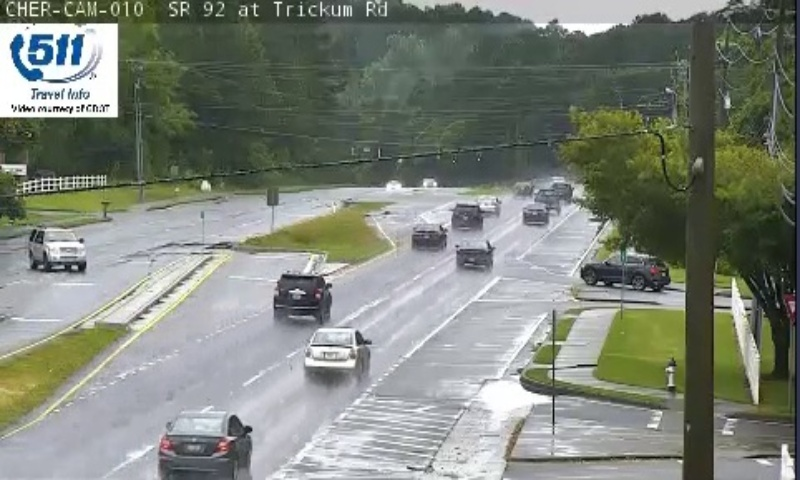car: (159, 411, 252, 480), (303, 328, 370, 375), (273, 272, 331, 317), (455, 238, 493, 268), (412, 223, 446, 251), (451, 203, 481, 229), (471, 194, 497, 216), (522, 203, 546, 225)
